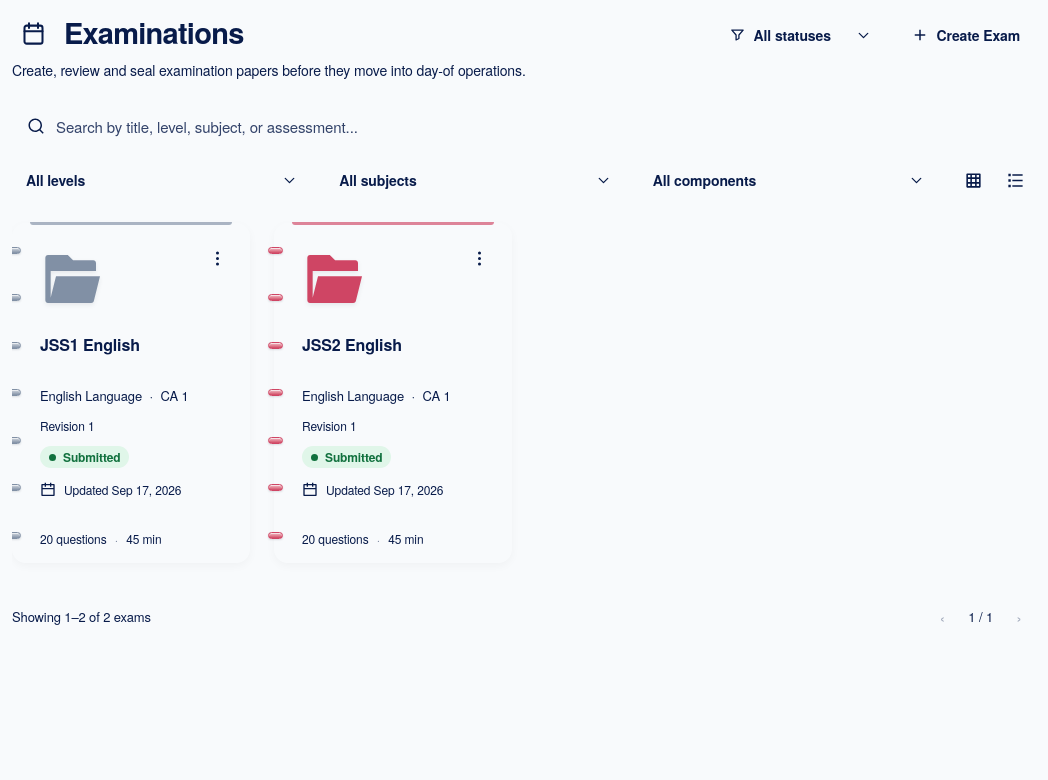
scopes subjects by level and resets the subject when the level changes
This screenshot has width=1048, height=780.
Click the dropdown named "Academic level filter".
click(56, 180)  # box [12,159,311,201]
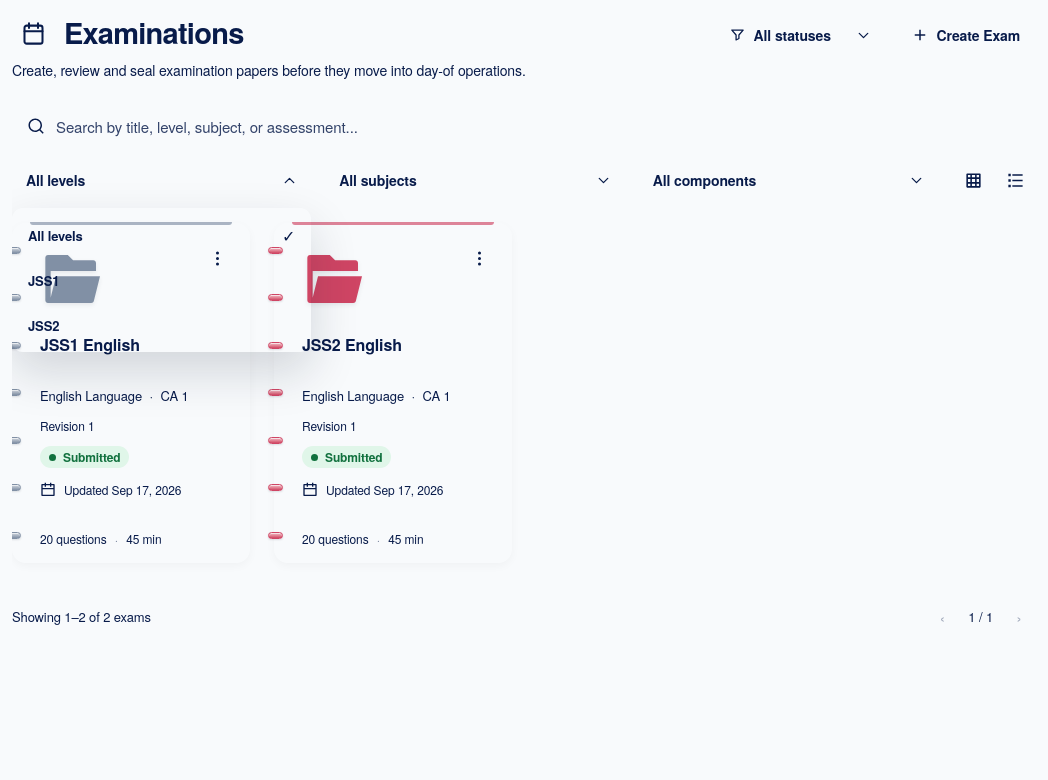
Click the option "JSS1".
click(44, 280)  # box [18,259,305,301]
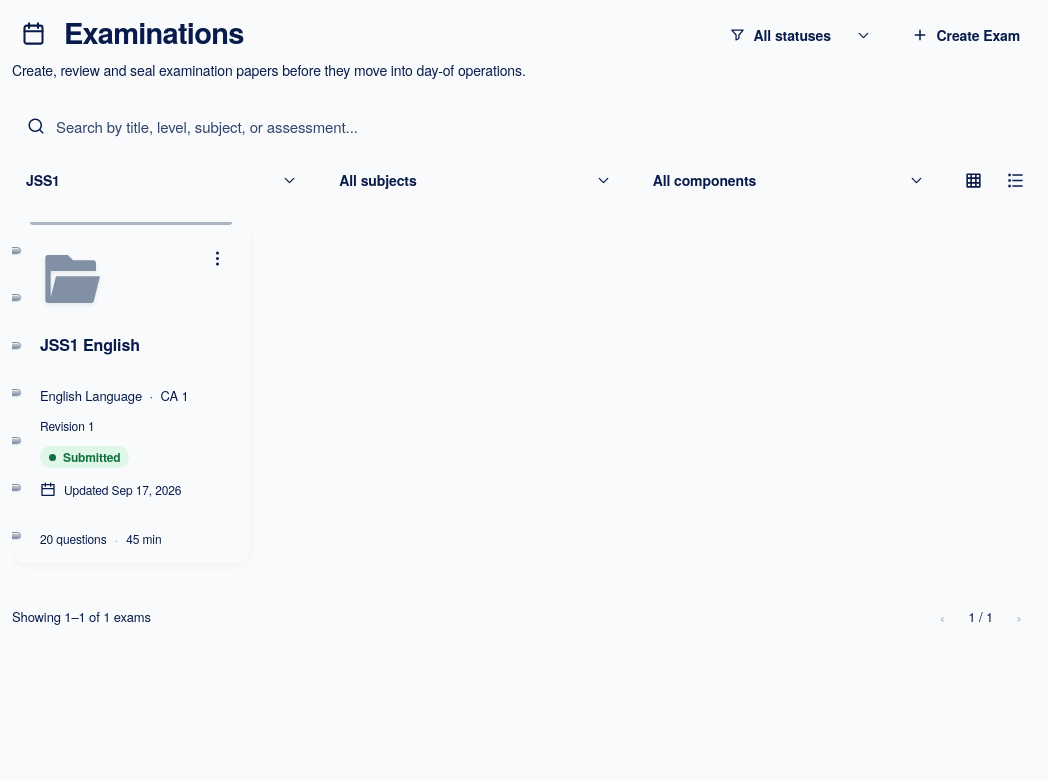
Expected: the button with aria-label "Open JSS1 English" is shown, [40,247,230,446]
Click the dropdown named "Exam subject filter".
click(378, 180)  # box [325,159,625,201]
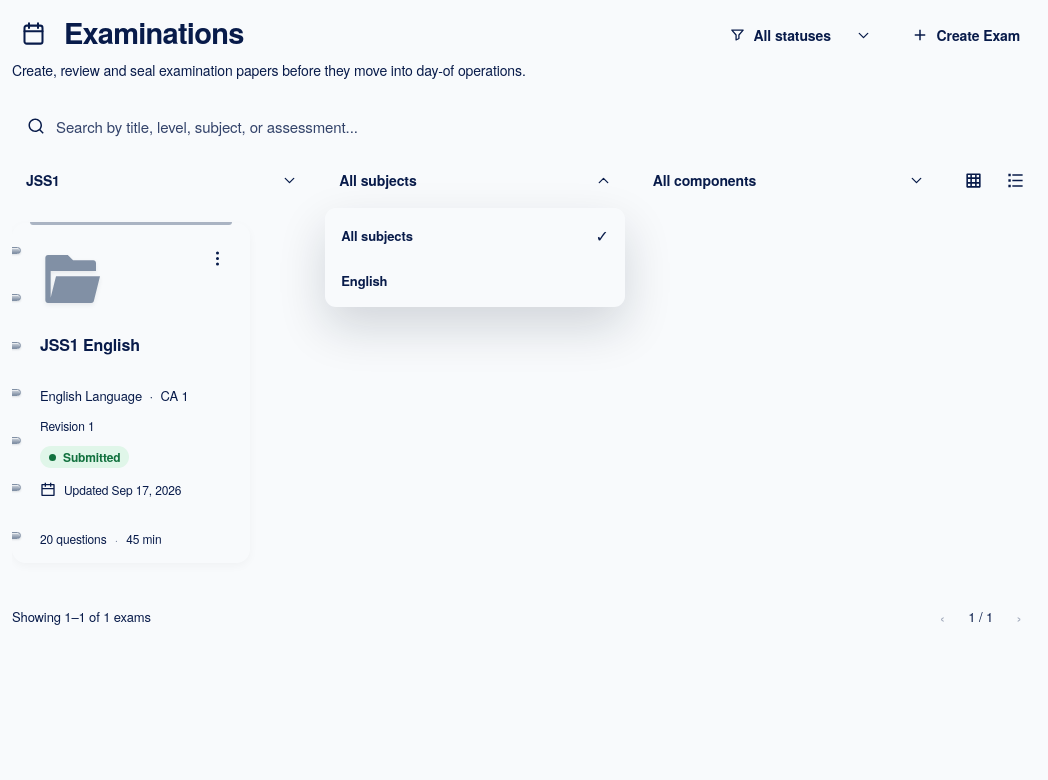
Expected: the number of options is 2
Click the option "English".
click(364, 280)  # box [331,259,619,301]
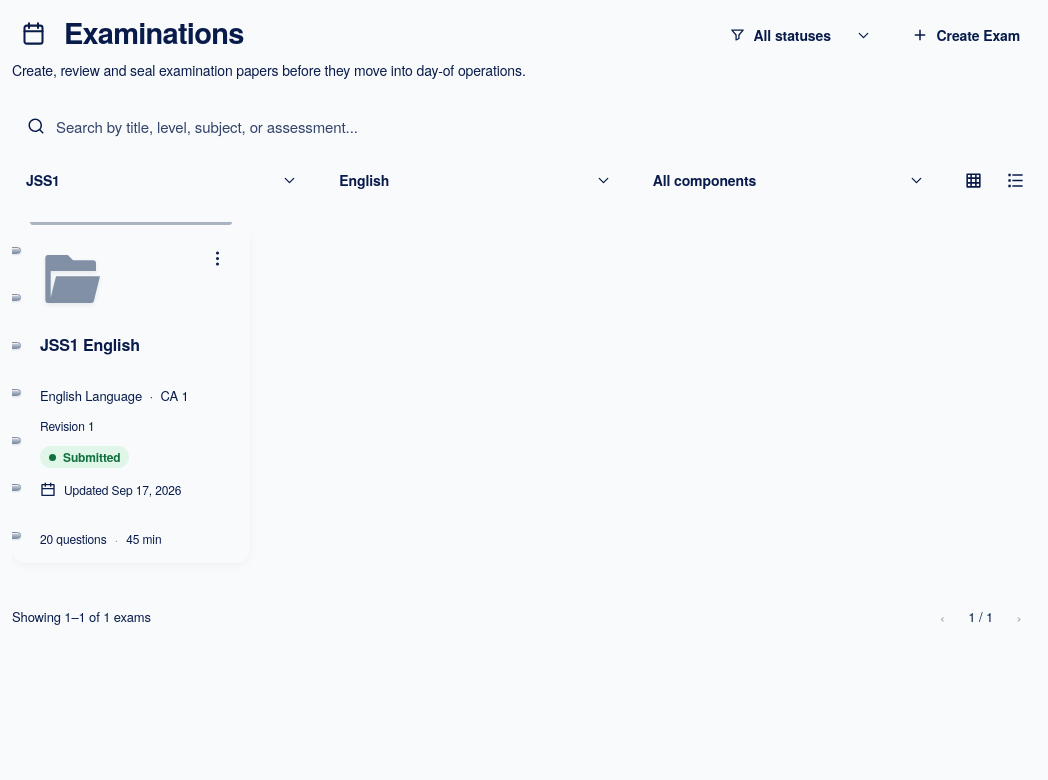
Click the dropdown named "Academic level filter".
click(43, 180)  # box [12,159,311,201]
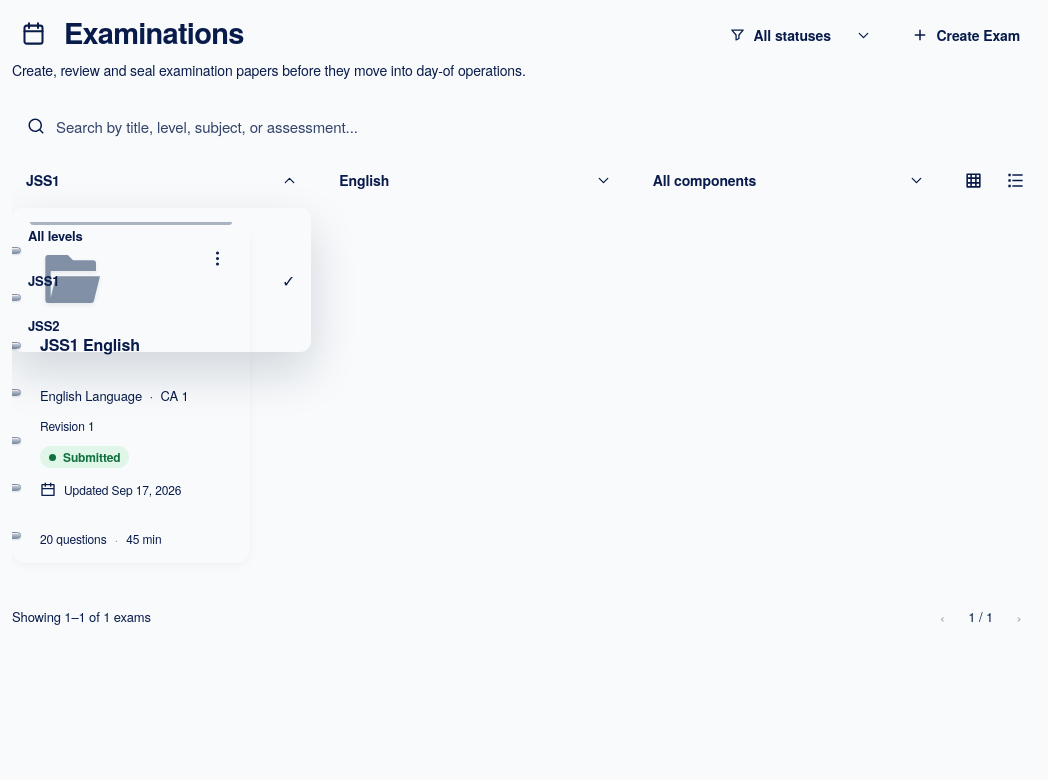
Click the option "JSS2".
click(44, 325)  # box [18,304,305,346]
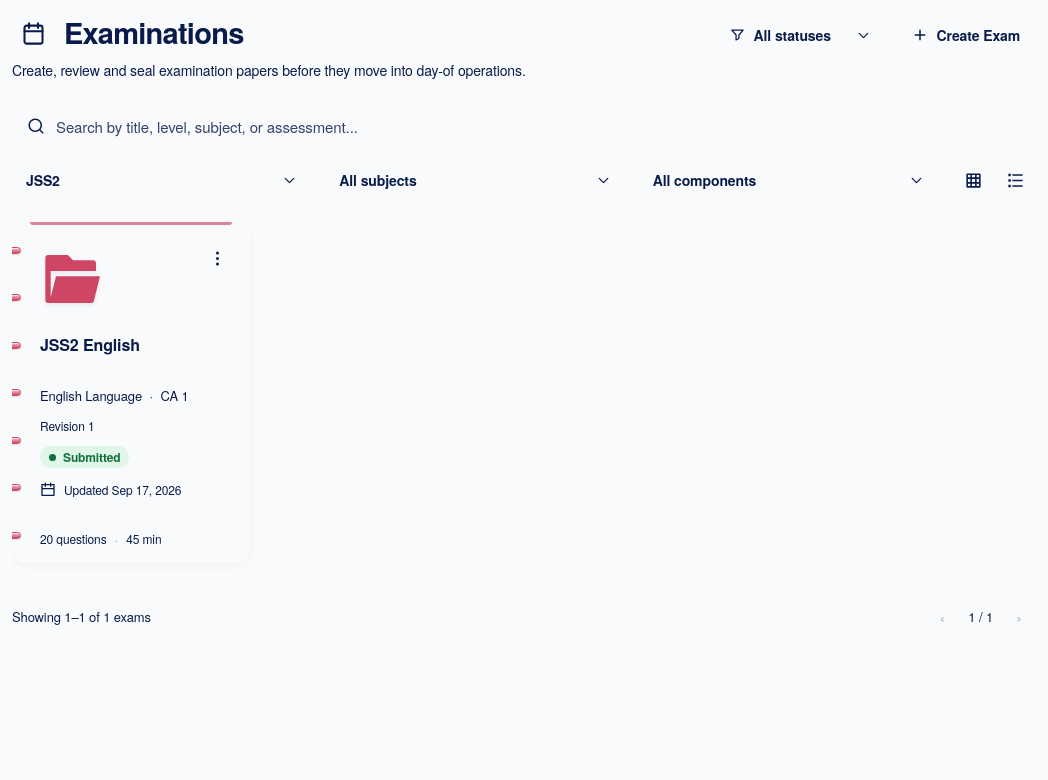
Expected: the dropdown named "Exam subject filter" reads "All subjects", [325,159,625,201]
Expected: the button with aria-label "Open JSS2 English" is shown, [40,247,230,446]
